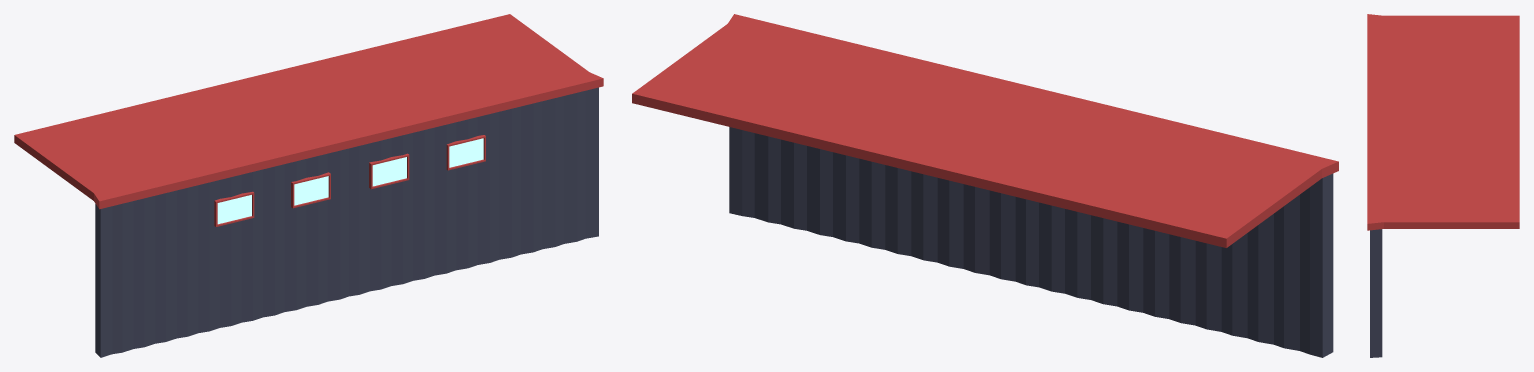
File: double_wall_extended.fbx
3 views of the same model, side by side, from view 1: azimuth 30°, elevation 25°; view 2: azimuth 150°, elevation 25°; view 3: azimuth 270°, elevation 25° (orthographic). The views are drawn at different scales.
Parts seen in each view (by area): view 1: WarehouseAntiBigWall; view 2: WarehouseAntiBigWall; view 3: WarehouseAntiBigWall.
Part boxes in pixels (x1,y1,x2,y2): WarehouseAntiBigWall: [14, 14, 603, 357]; WarehouseAntiBigWall: [632, 14, 1338, 357]; WarehouseAntiBigWall: [1367, 14, 1519, 357].
Size of the model in its own units: 666 by 200 by 204.
